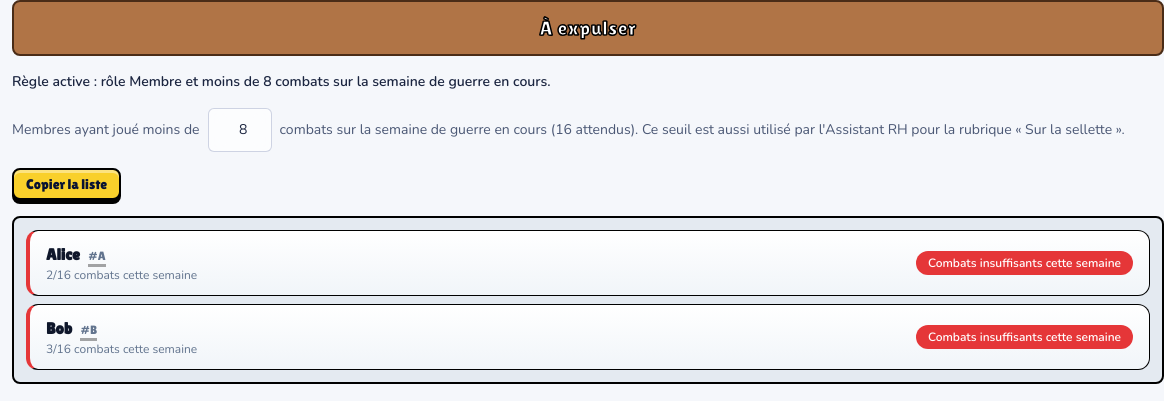
Test case: PurgeSection › copie un message de moderation unique avec le seuil actif et confirme "Copié ! ✅" (US 12.3)
Step 1. Click the button "Copier la liste" → click(67, 184), box [12, 168, 121, 200]
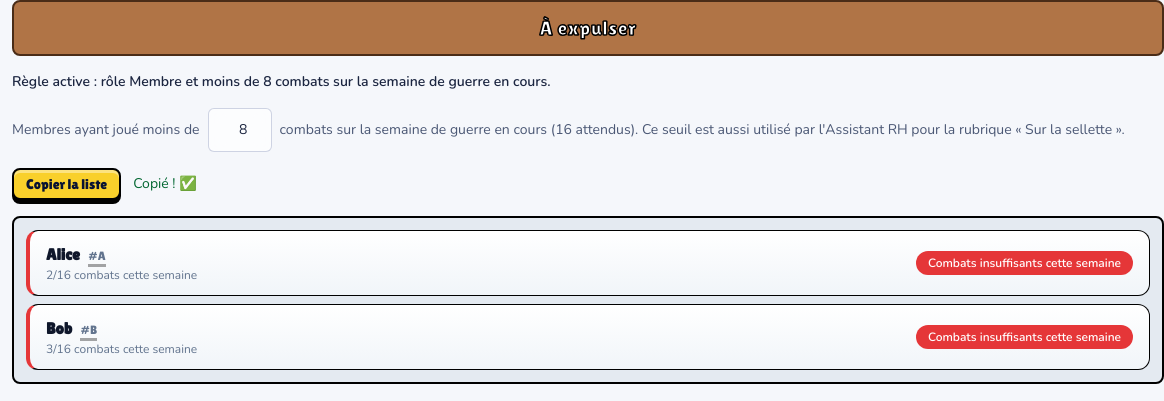
Expected: the text "Copié ! ✅" is shown, [133, 174, 197, 194]
